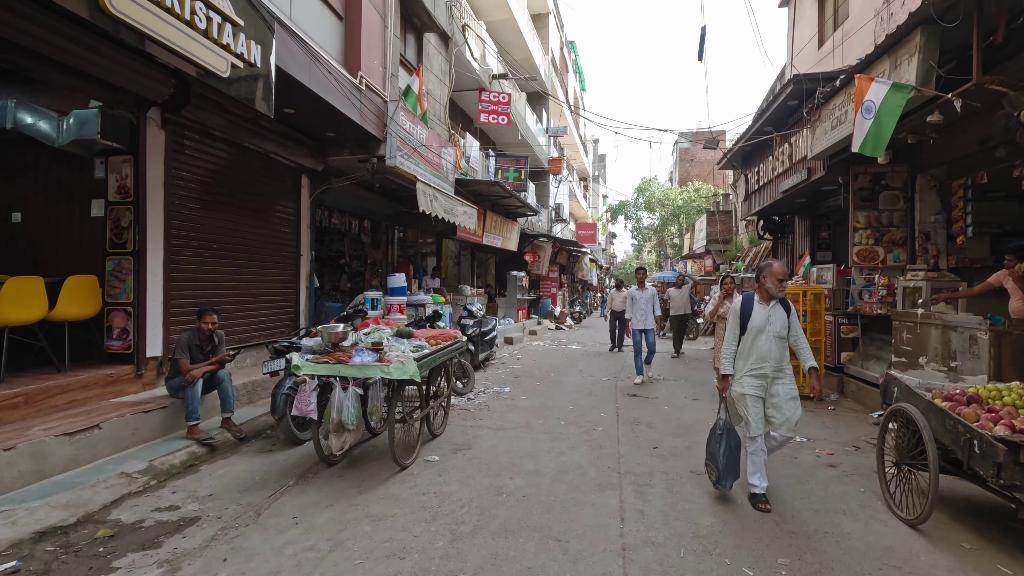garbage: (341, 376, 363, 431), (367, 376, 385, 426), (331, 378, 344, 435)
